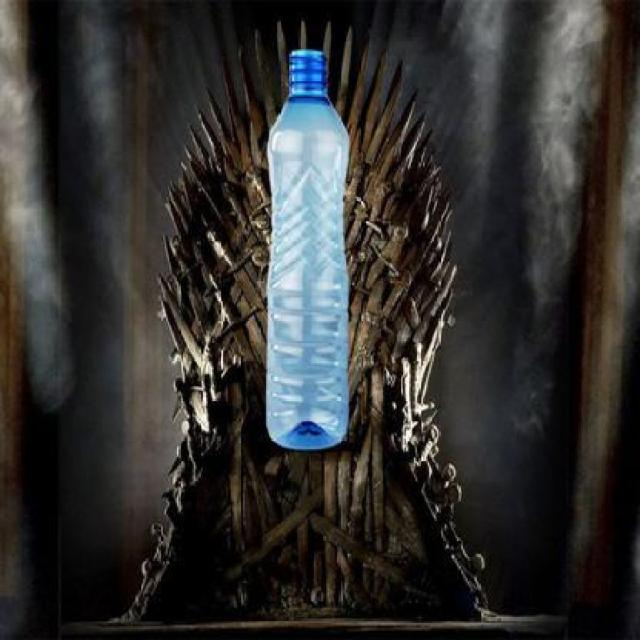bottle: (262, 48, 368, 490)
